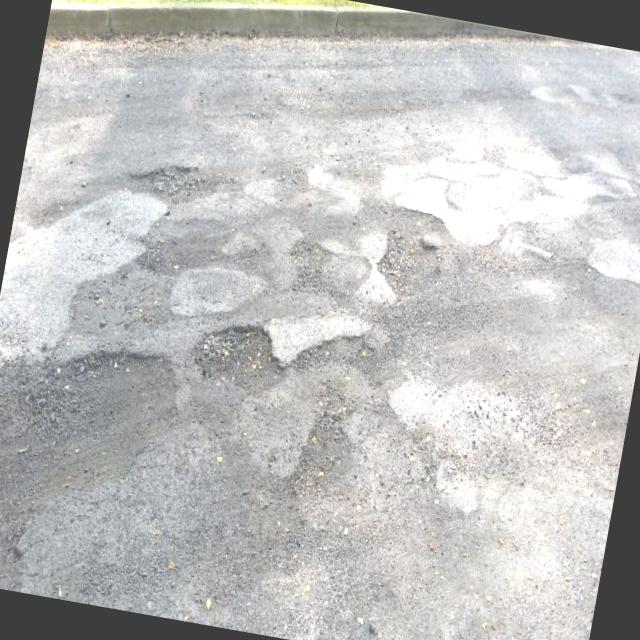pothole: (0, 321, 190, 530), (368, 195, 456, 304), (184, 311, 290, 396), (130, 149, 225, 212), (0, 502, 36, 586)
